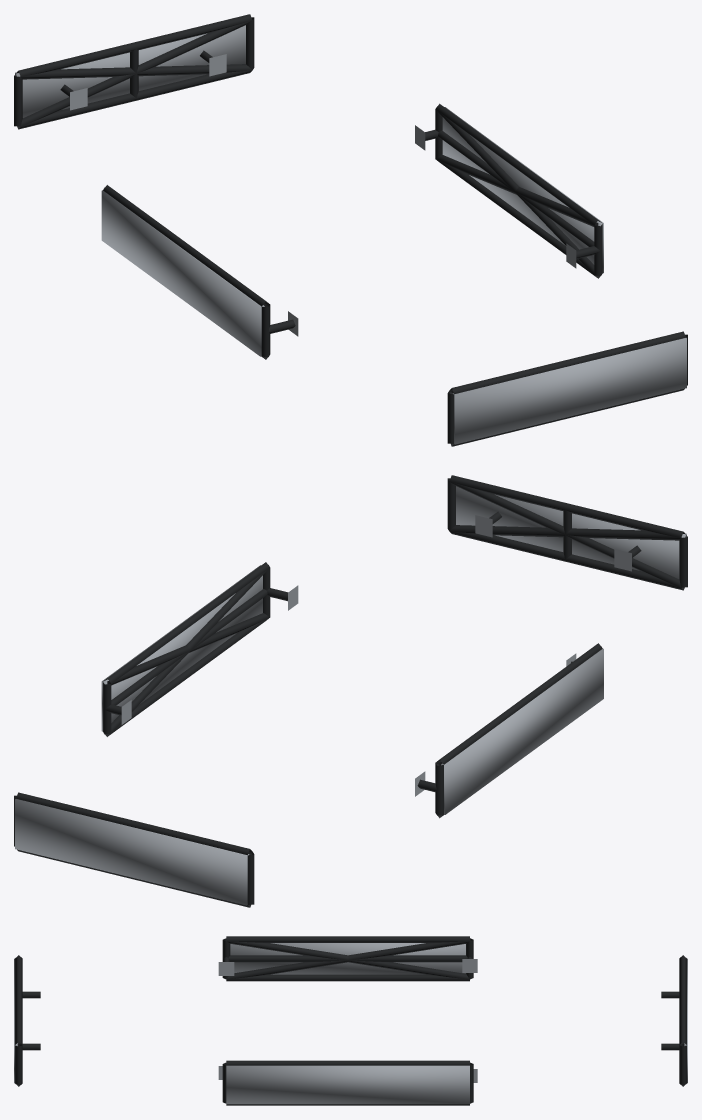
Rendered from vallon_atico_protecao.glb.
3 renders of one model, top to bottom at view 1: azimuth 30°, elevation 25°; view 2: azimuth 150°, elevation 25°; view 3: azimuth 270°, elevation 25°, orthographic. The views are drawn at different scales.
Visible parts, largest first — view 1: Protection_front_Level3_Details, Protection_left_Level3_Details, Protection_rear_Level1_Details, Protection_rear_Level3_Details, Protection_right_Level1_Details, Protection_rear_Level2_Details, Protection_right_Level2_Details, Protection_right_Level3_Details, Protection_front_Level1_Details, Protection_left_Level1_Details; view 2: Protection_rear_Level3_Details, Protection_left_Level3_Details, Protection_front_Level1_Details, Protection_front_Level3_Details, Protection_right_Level1_Details, Protection_front_Level2_Details, Protection_right_Level2_Details, Protection_right_Level3_Details, Protection_rear_Level1_Details, Protection_left_Level1_Details; view 3: Protection_right_Level3_Details, Protection_left_Level2_Details, Protection_left_Level1_Details, Protection_left_Level3_Details, Protection_right_Level1_Details, Protection_rear_Level1_Details, Protection_front_Level1_Details.
Boxes of the visible parts, <box> form: Protection_front_Level3_Details: <box>452,338,686,444</box>; Protection_left_Level3_Details: <box>101,190,264,356</box>; Protection_rear_Level1_Details: <box>14,14,254,129</box>; Protection_rear_Level3_Details: <box>15,25,245,117</box>; Protection_right_Level1_Details: <box>415,103,602,278</box>; Protection_rear_Level2_Details: <box>16,20,252,128</box>; Protection_right_Level2_Details: <box>435,110,601,277</box>; Protection_right_Level3_Details: <box>442,107,603,273</box>; Protection_front_Level1_Details: <box>447,331,687,446</box>; Protection_left_Level1_Details: <box>103,185,298,359</box>; Protection_rear_Level3_Details: <box>15,799,249,905</box>; Protection_left_Level3_Details: <box>441,648,603,814</box>; Protection_front_Level1_Details: <box>447,475,687,590</box>; Protection_front_Level3_Details: <box>456,486,686,578</box>; Protection_right_Level1_Details: <box>103,562,298,736</box>; Protection_front_Level2_Details: <box>449,481,685,589</box>; Protection_right_Level2_Details: <box>103,568,269,736</box>; Protection_right_Level3_Details: <box>101,565,262,731</box>; Protection_rear_Level1_Details: <box>14,792,254,907</box>; Protection_left_Level1_Details: <box>415,643,602,818</box>; Protection_right_Level3_Details: <box>226,1065,469,1104</box>; Protection_left_Level2_Details: <box>226,940,470,979</box>; Protection_left_Level1_Details: <box>218,936,477,981</box>; Protection_left_Level3_Details: <box>230,943,465,974</box>; Protection_right_Level1_Details: <box>218,1060,477,1105</box>; Protection_rear_Level1_Details: <box>661,955,686,1086</box>; Protection_front_Level1_Details: <box>15,955,40,1086</box>.
Size of the model in its own units: 2.16 by 0.354 by 4.79.
Materials: 1 (1 with a texture image).
